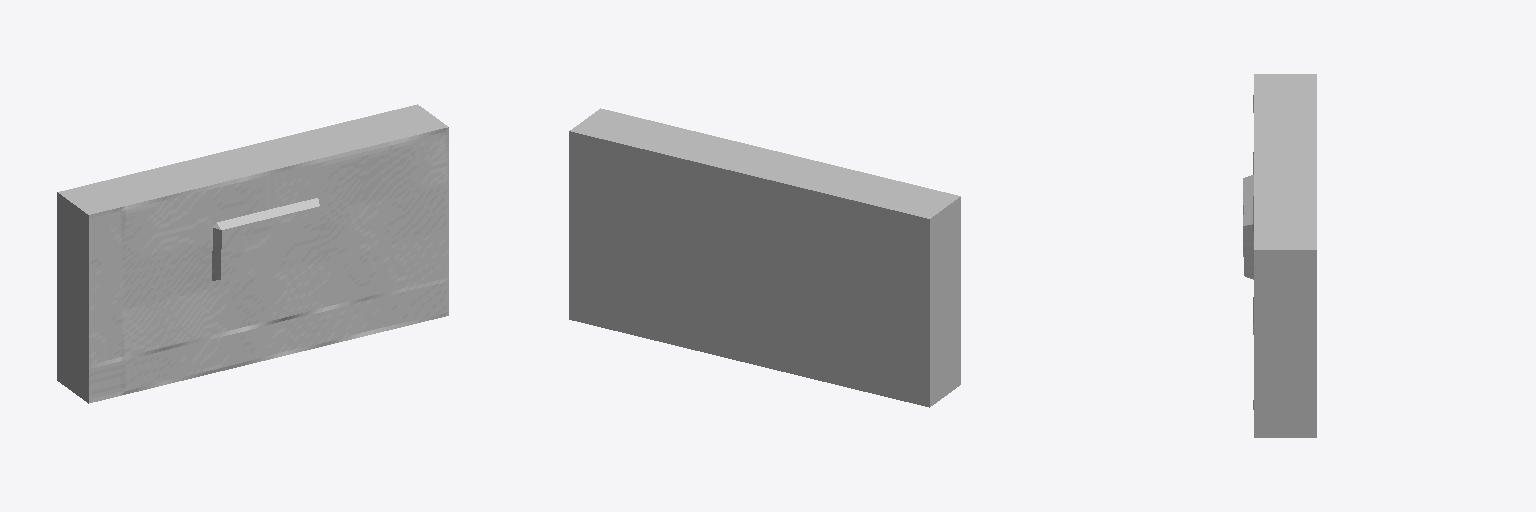
File: rectangular_prism_bumps_4_6.obj
3 views of the same model, side by side, from view 1: azimuth 30°, elevation 25°; view 2: azimuth 150°, elevation 25°; view 3: azimuth 270°, elevation 25° (orthographic).
Bounding box in the file's own units: 10 × 5 × 1.76.